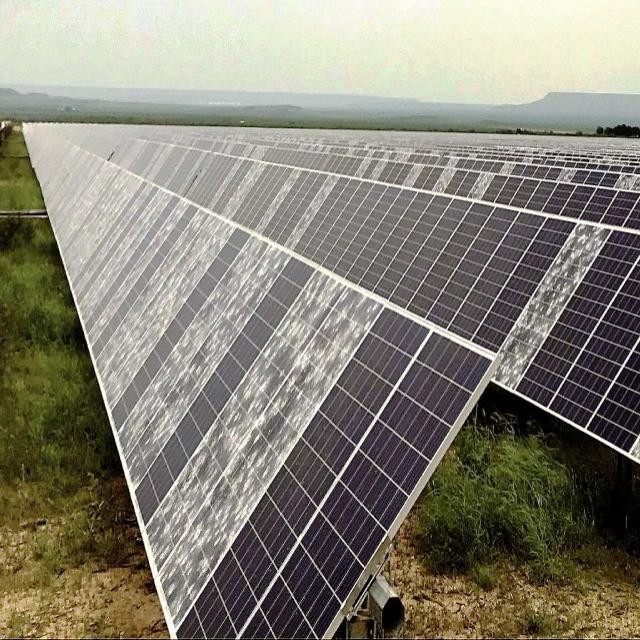faulty: (142, 268, 388, 632), (115, 234, 292, 488), (91, 208, 239, 408), (486, 221, 614, 392), (412, 202, 498, 318)
no faulty: (172, 306, 497, 640)
